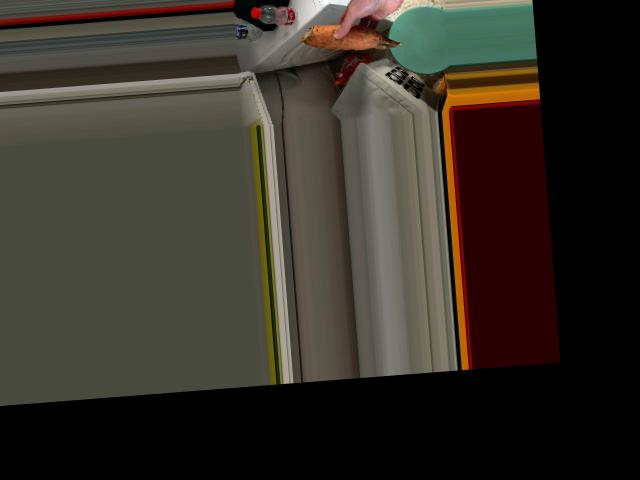sweet_potato: (297, 23, 406, 57)
